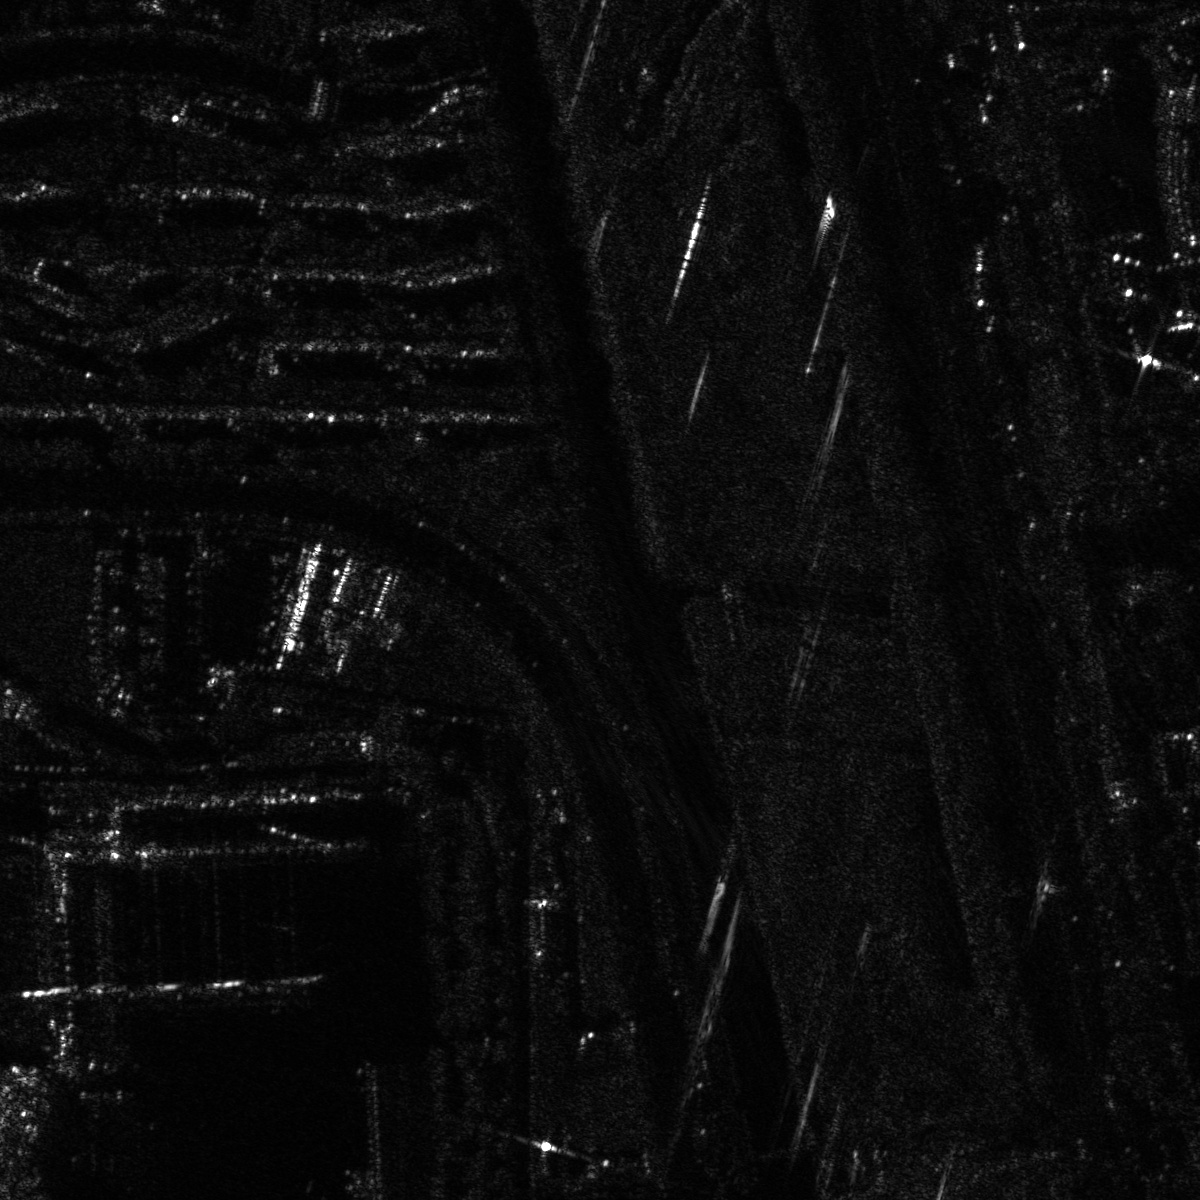Boeing737: (63, 1088, 159, 1177)
